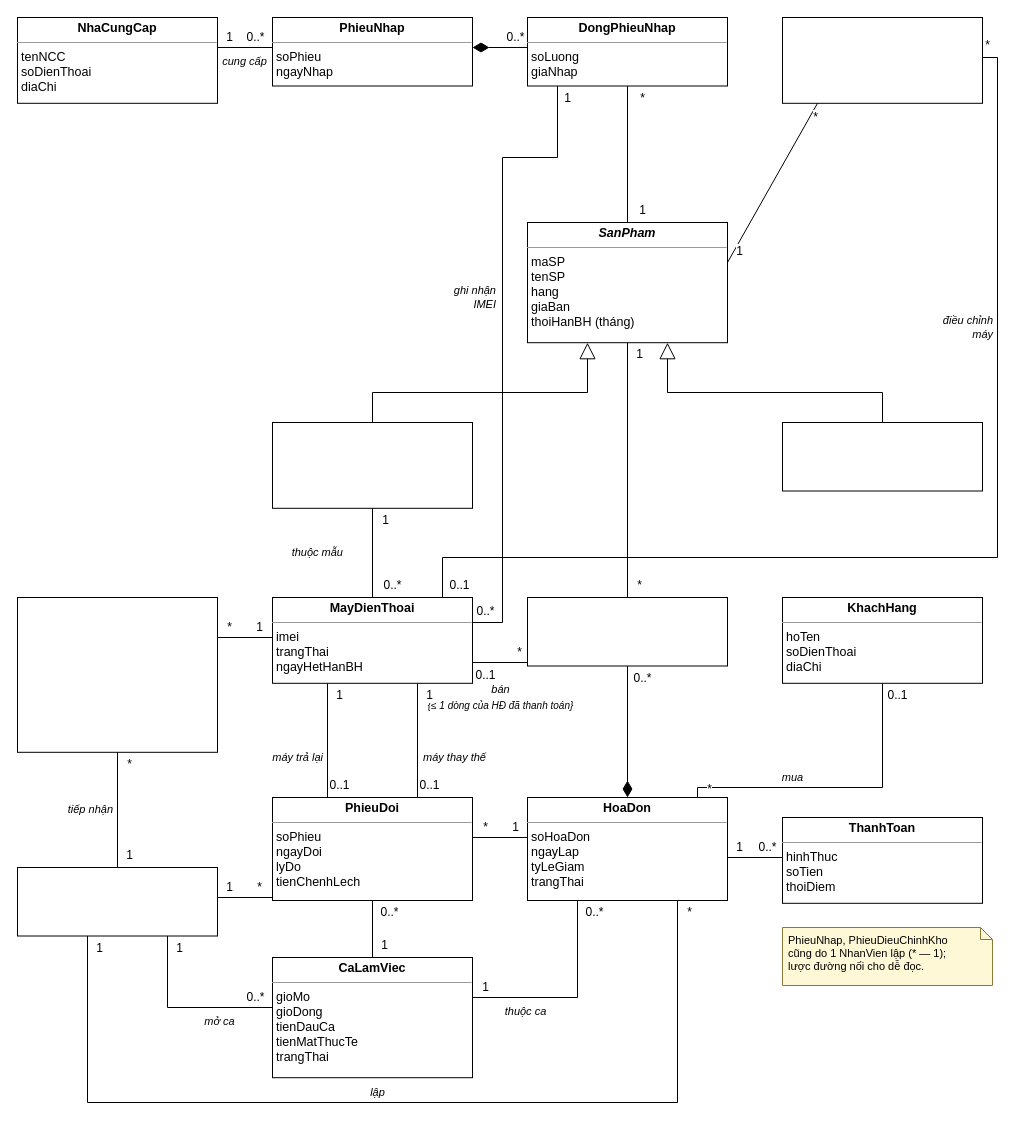
This 1016x1121 diagram has some shape labels left out. Here are the shapes that lost their labels. From the top down, the centre of each, then its label:
At (882,59): "PhieuDieuChinhKho ngay soLuongChenhLech lyDo".
At (372,465): "MauDienThoai ram boNhoTrong mauSac".
At (882,456): "PhuKien loaiPhuKien soLuongTon".
At (627,631): "DongHoaDon soLuong donGia".
At (117,674): "PhieuBaoHanh soPhieu ngayNhan moTaLoi tinhTrang trangThai ketQua ngayTra".
At (117,901): "NhanVien hoTen vaiTro".
